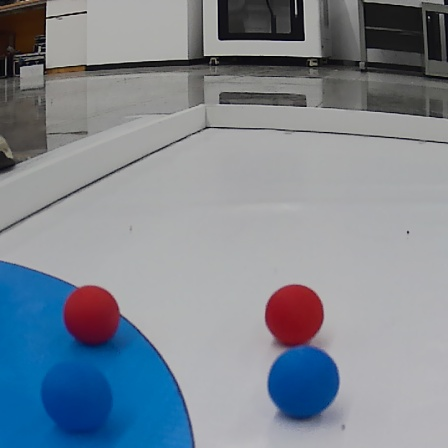blue: (269, 346, 343, 423), (43, 364, 110, 434)
blue_base: (1, 252, 197, 448)
red: (261, 280, 328, 346), (61, 283, 124, 345)
